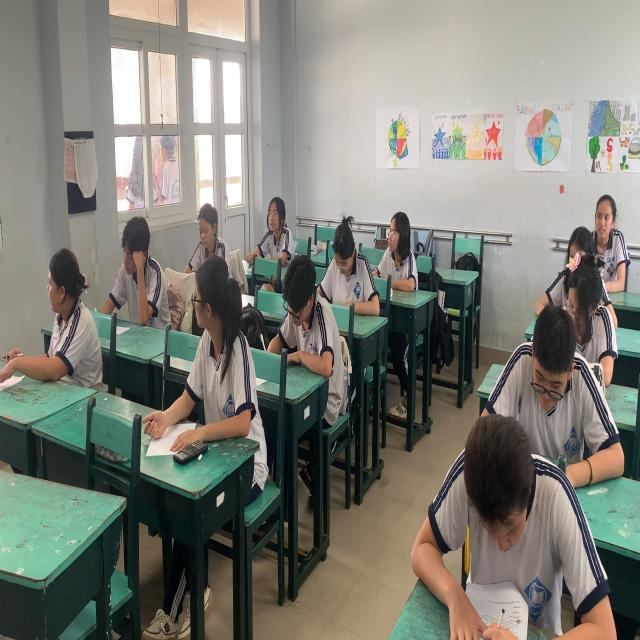cheating: (178, 244, 258, 439)
not_cheating: (430, 406, 588, 593), (496, 297, 602, 433), (24, 253, 104, 395), (268, 242, 343, 385), (548, 245, 617, 358), (318, 208, 379, 318), (110, 213, 167, 329), (588, 176, 634, 281), (383, 195, 426, 295), (187, 196, 228, 270), (258, 182, 293, 266)
